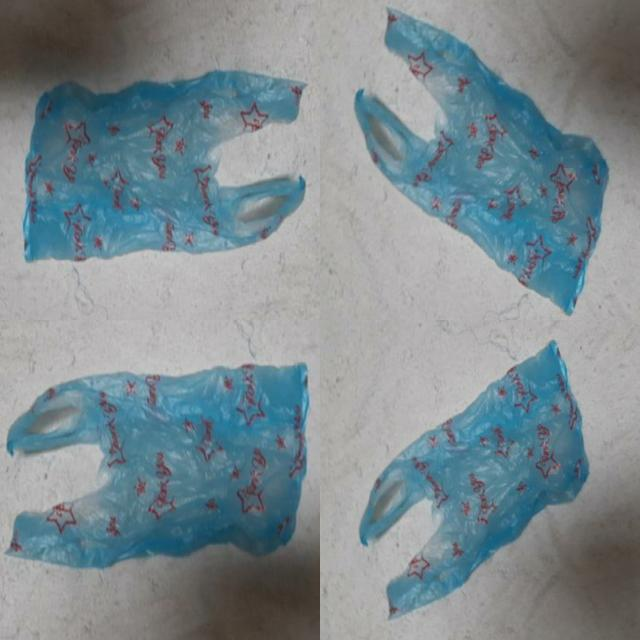Single-layer Plastic: (355, 9, 609, 314), (360, 341, 589, 619), (8, 365, 309, 568), (24, 71, 305, 261)
